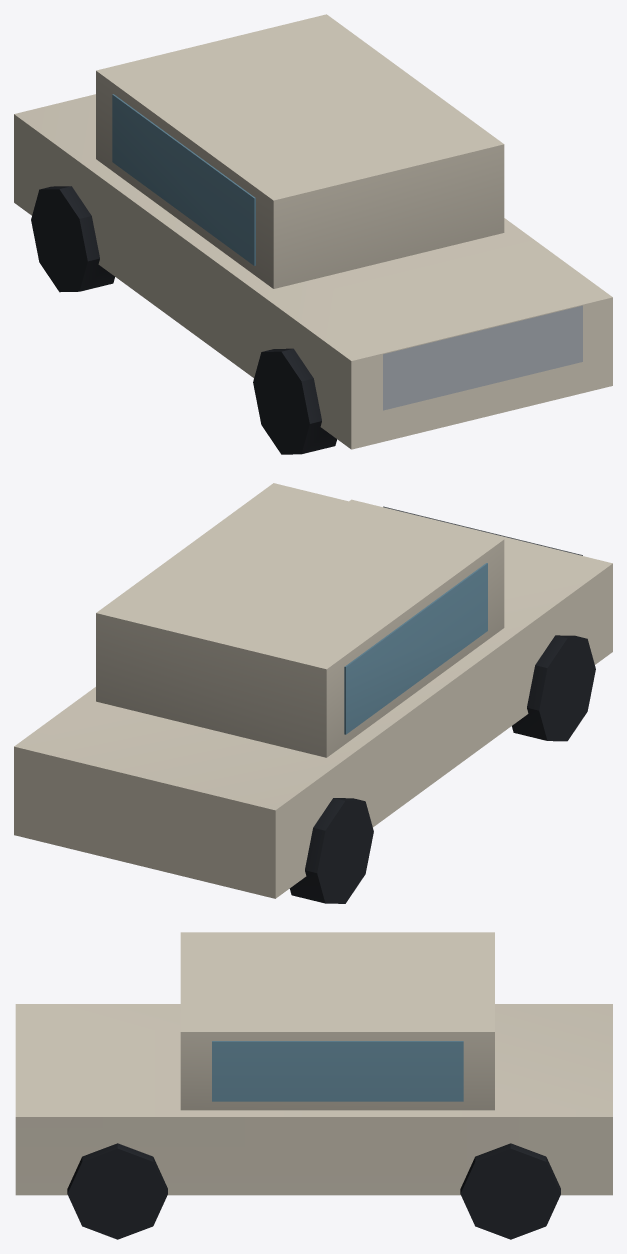
File: xe-hoi-trang.glb
3 views of the same model, one above another, from view 1: azimuth 30°, elevation 25°; view 2: azimuth 150°, elevation 25°; view 3: azimuth 270°, elevation 25° (orthographic). The views are drawn at different scales.
Parts seen in each view (by area): view 1: xe-hoi-trang; view 2: xe-hoi-trang; view 3: xe-hoi-trang.
Boxes of the visible parts, bbox=[...] form: xe-hoi-trang: bbox=[14, 14, 612, 454]; xe-hoi-trang: bbox=[14, 483, 612, 903]; xe-hoi-trang: bbox=[15, 932, 612, 1239].
Bounding box in the file's own units: 1.86 × 1.38 × 3.81.
